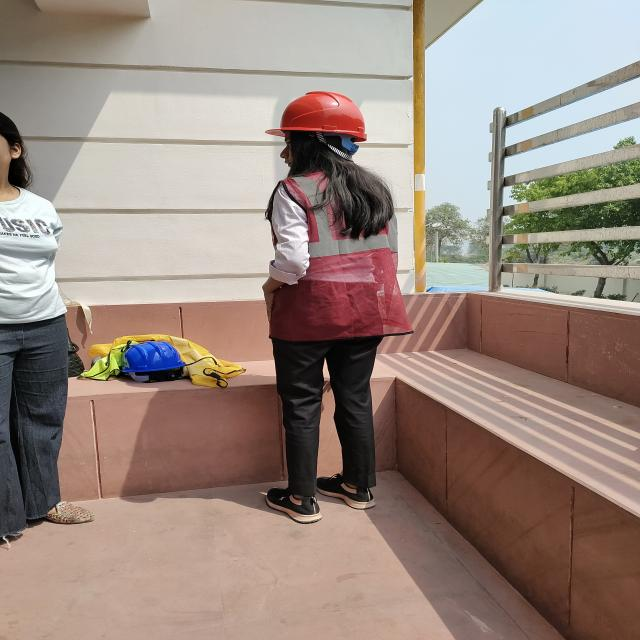safe: (262, 91, 414, 510)
unsafe: (1, 113, 96, 542)
